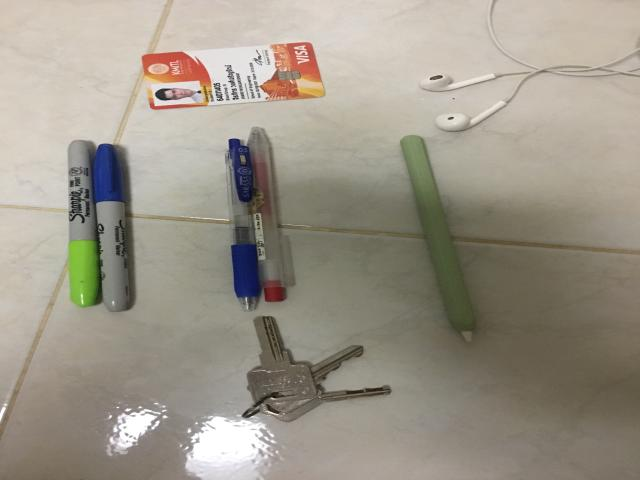Keys: (241, 316, 391, 422)
Pen: (225, 128, 293, 311), (68, 140, 130, 311)
wire: (420, 49, 640, 131)
